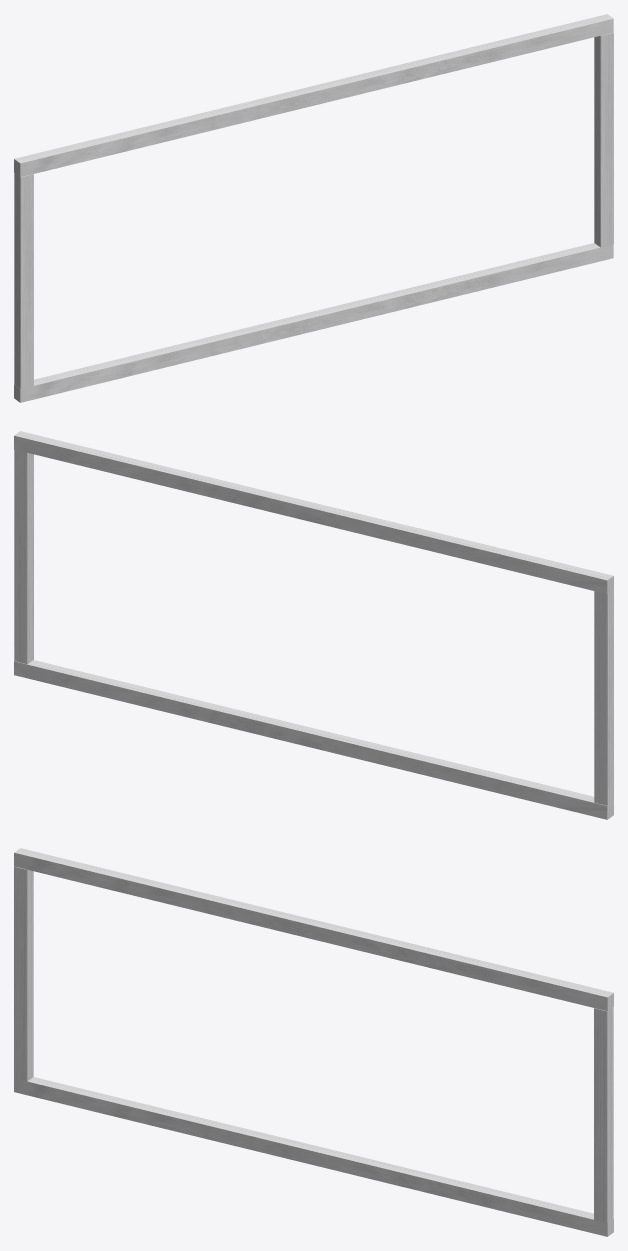
File: MarcoVentanaLateral.obj
3 renders of one model, top to bottom at view 1: azimuth 30°, elevation 25°; view 2: azimuth 150°, elevation 25°; view 3: azimuth 330°, elevation 25°, orthographic.
Parts seen in each view (by area): view 1: MarcoVentanaLateral; view 2: MarcoVentanaLateral; view 3: MarcoVentanaLateral.
Part boxes in pixels (x1,y1,x2,y2): MarcoVentanaLateral: (14, 14, 613, 402); MarcoVentanaLateral: (14, 431, 613, 819); MarcoVentanaLateral: (14, 848, 613, 1236).
Size of the model in its own units: 13.47 by 5.19 by 0.2585.
Materials: 1 (1 with a texture image).
